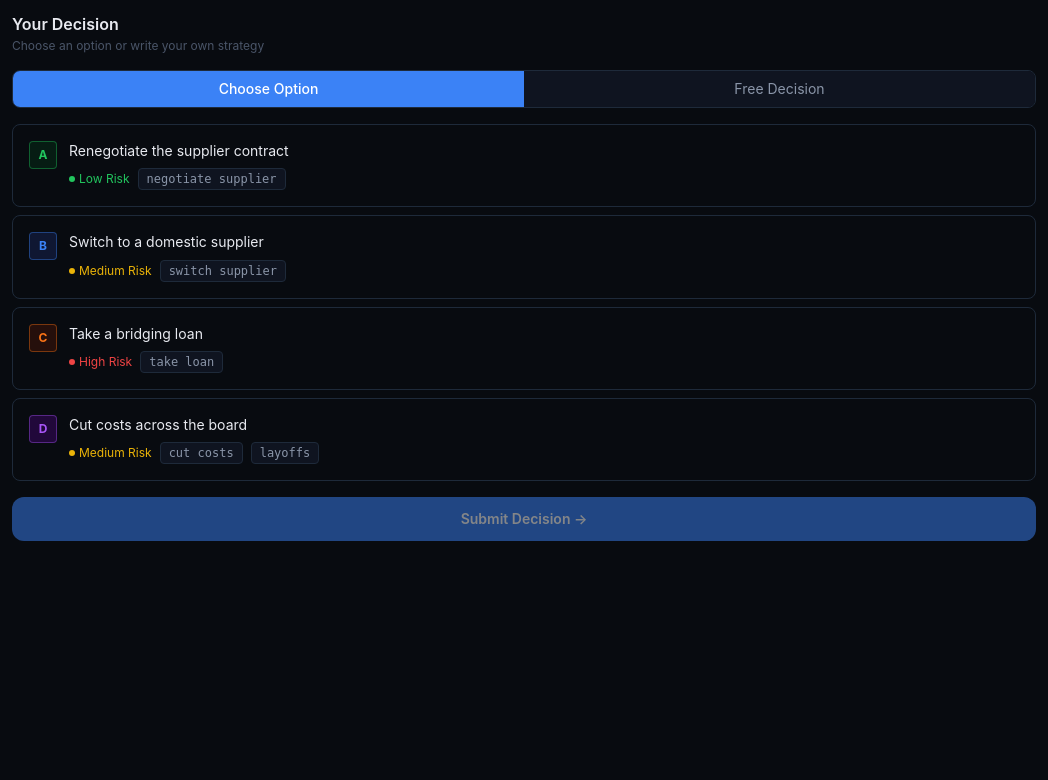
DecisionPanel — writing a decision › opens submission at ten characters
Click the button "Free Decision" at (780, 89), box top-left (524, 71), bottom-right (1035, 107)
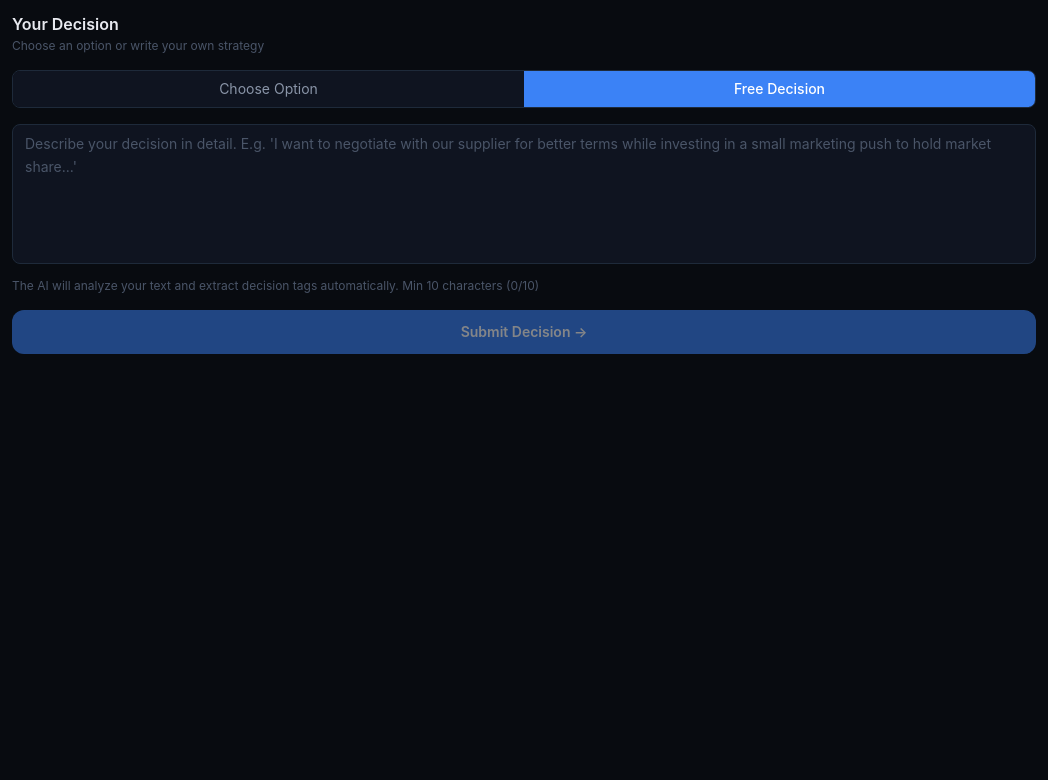
Replace the text in the text box with "ten chars." at (524, 194), box top-left (12, 124), bottom-right (1036, 264)
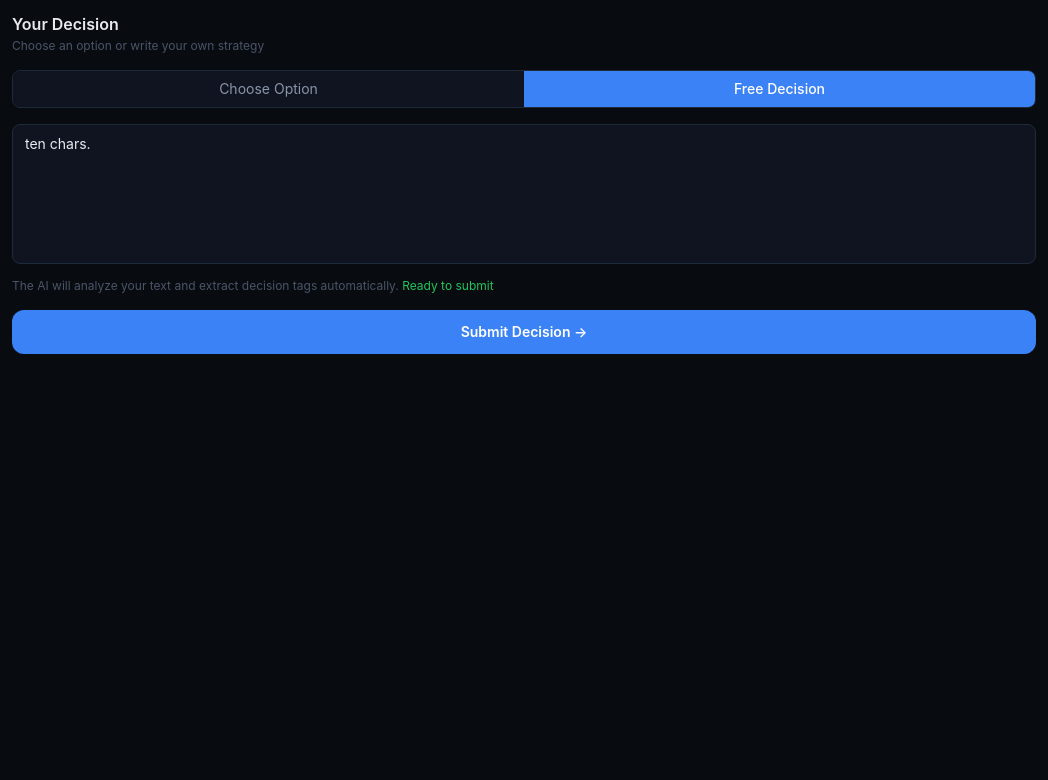
Expected: the text "Ready to submit" is shown, top-left (402, 278), bottom-right (494, 293)
Expected: the button "Submit Decision →" is enabled, top-left (12, 310), bottom-right (1036, 354)
